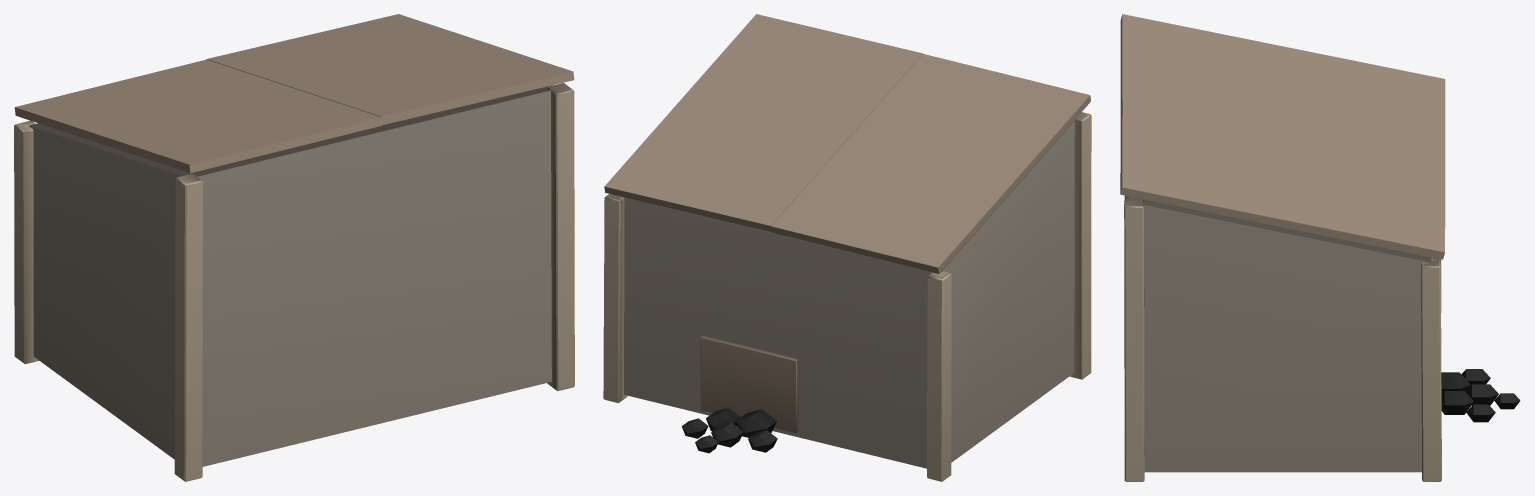
File: coal_bunker.glb
3 views of the same model, side by side, from view 1: azimuth 30°, elevation 25°; view 2: azimuth 150°, elevation 25°; view 3: azimuth 270°, elevation 25° (orthographic). The views are drawn at different scales.
Visible parts, largest first — view 1: static; view 2: static; view 3: static.
Part boxes in pixels (x1,y1,x2,y2): static: (14,14,574,481); static: (603,14,1091,481); static: (1120,14,1520,481).
Size of the model in its own units: 1.26 by 0.9865 by 1.21.
